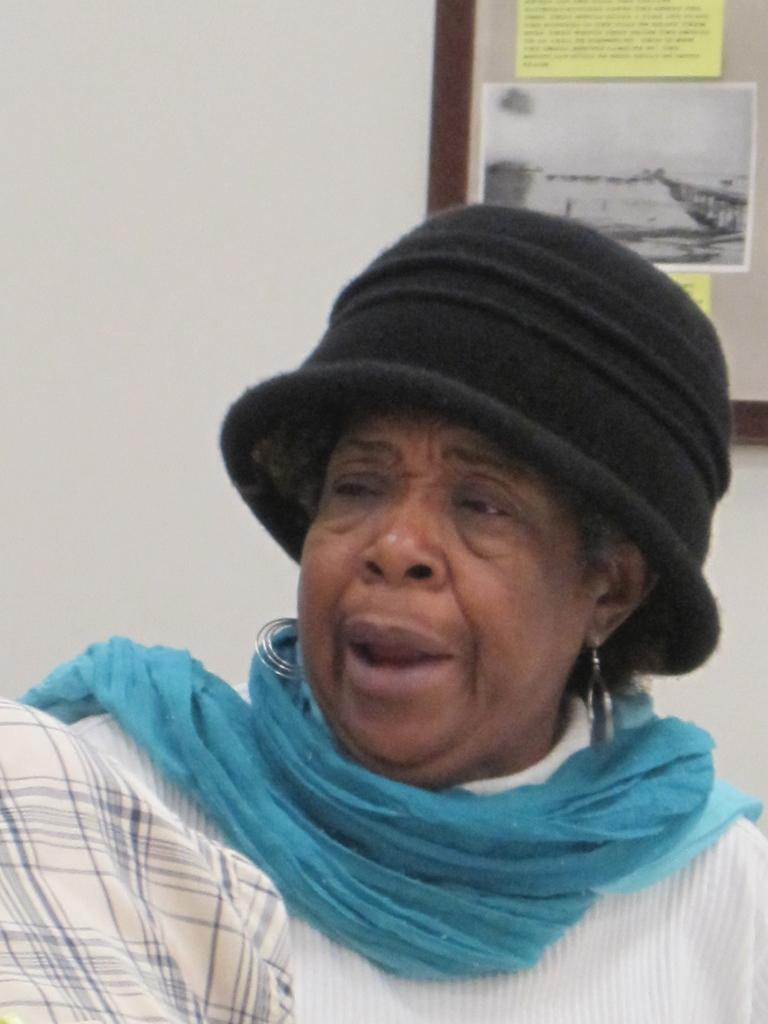Hat: (218, 196, 720, 684)
